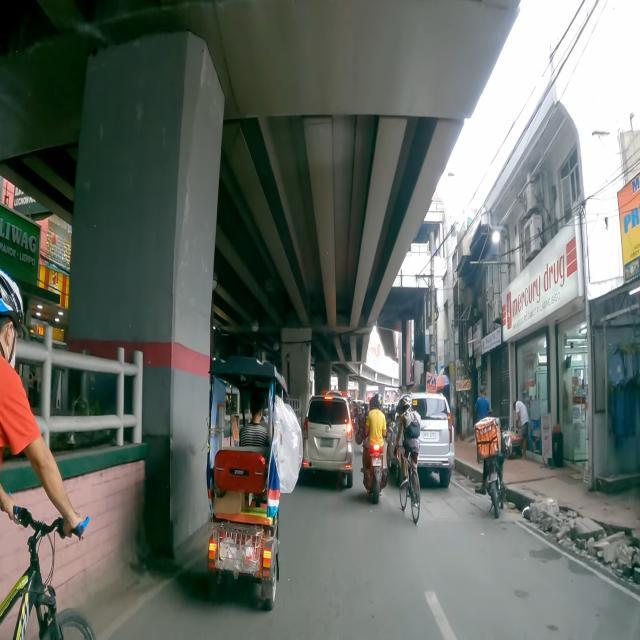bike: (0, 266, 97, 640), (394, 392, 420, 526), (474, 417, 505, 520)
car: (386, 392, 456, 489), (304, 397, 354, 488)
motorcycle: (362, 393, 388, 503)
tricycle: (206, 350, 287, 611)
